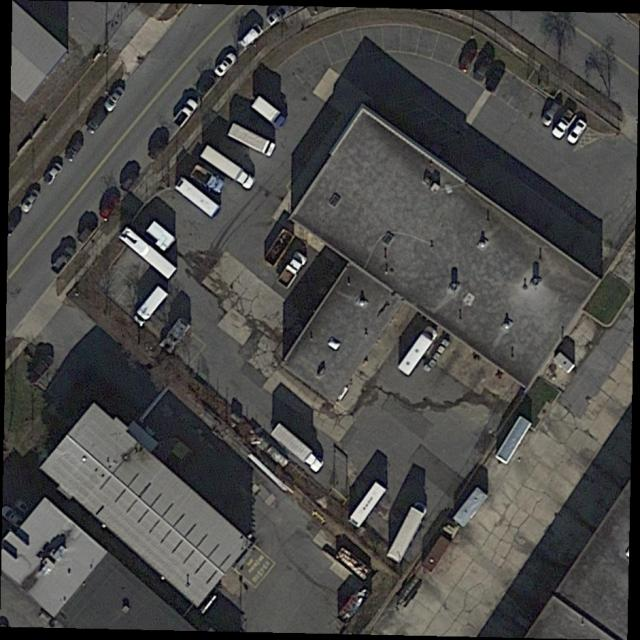large-vehicle: (269, 419, 325, 475), (119, 227, 178, 279), (385, 500, 431, 565), (199, 141, 258, 191), (396, 324, 441, 376), (173, 175, 222, 219), (348, 480, 388, 530), (224, 122, 278, 158), (131, 285, 170, 329), (252, 94, 289, 131)
small-vehicle: (275, 249, 308, 290), (189, 163, 227, 197), (471, 41, 501, 84), (454, 36, 484, 76), (549, 106, 579, 141), (235, 20, 267, 52), (171, 95, 201, 129), (484, 57, 509, 94), (49, 244, 78, 275), (63, 130, 90, 162), (212, 50, 239, 78), (101, 85, 127, 114), (18, 185, 43, 215), (85, 107, 110, 136), (539, 100, 563, 129), (567, 117, 589, 146), (118, 167, 142, 193), (194, 73, 217, 100), (99, 193, 122, 220), (77, 216, 99, 244), (41, 161, 65, 186), (146, 135, 169, 161)
